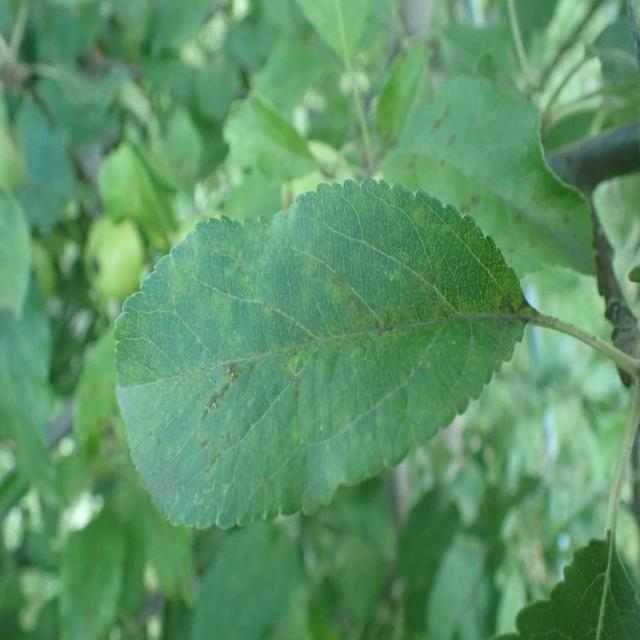scab: (108, 244, 550, 476), (378, 73, 596, 288)
